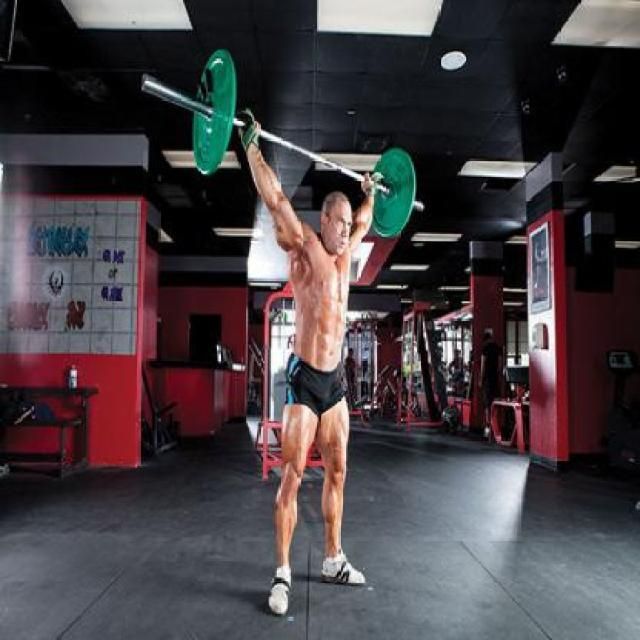barbell: (186, 45, 243, 180)
